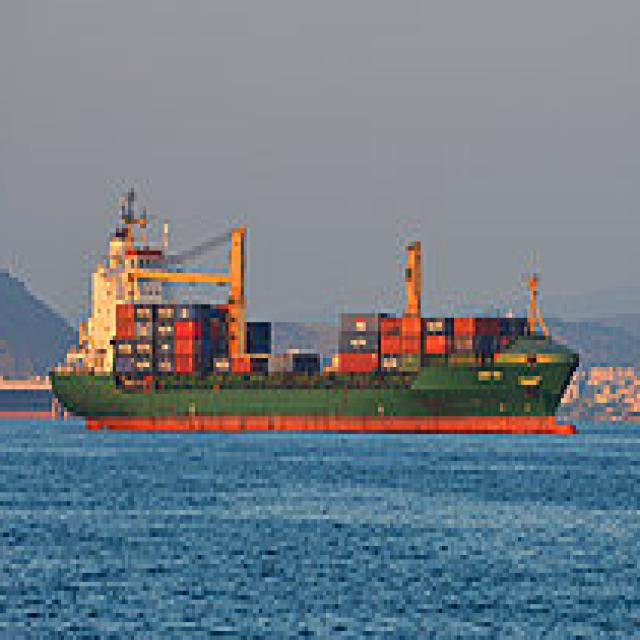Cargo: (49, 179, 585, 430)
